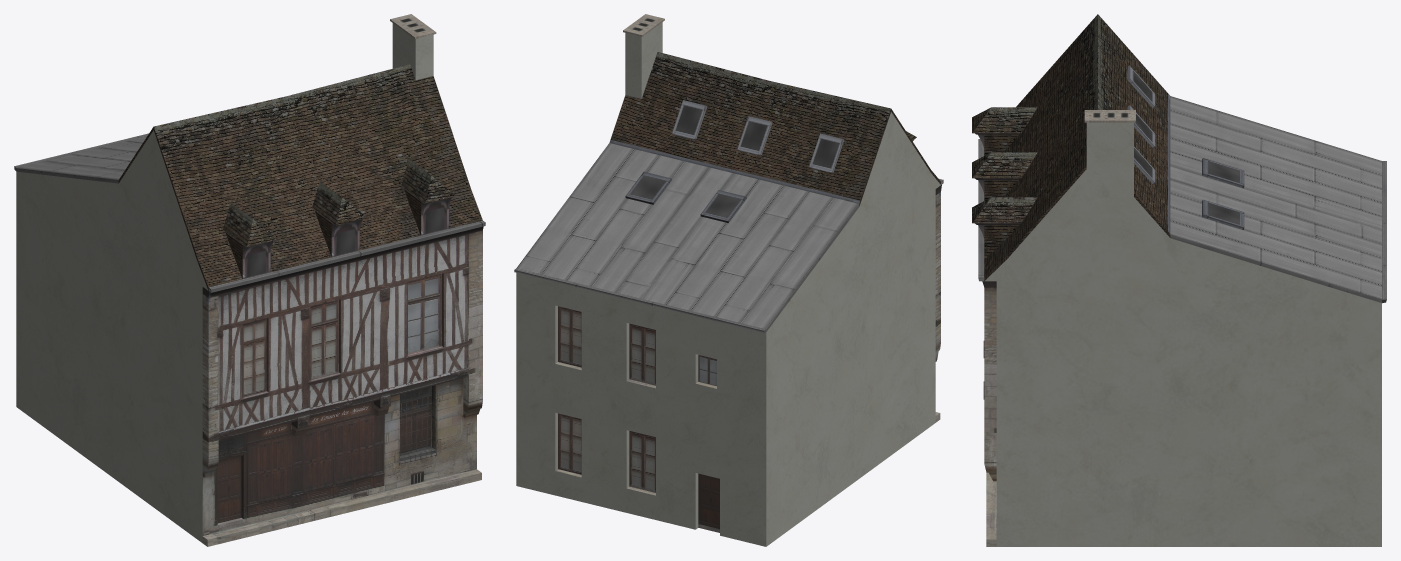
The model's file is old_city_house_1.obj.
3 views of the same model, side by side, from view 1: azimuth 30°, elevation 25°; view 2: azimuth 150°, elevation 25°; view 3: azimuth 270°, elevation 25° (orthographic). The views are drawn at different scales.
Parts seen in each view (by area): view 1: 2_2.0_2_2.0_0; view 2: 2_2.0_2_2.0_0; view 3: 2_2.0_2_2.0_0.
Boxes of the visible parts, x1,y1,x2,y2 form: 2_2.0_2_2.0_0: (14, 14, 485, 546); 2_2.0_2_2.0_0: (514, 14, 943, 546); 2_2.0_2_2.0_0: (972, 14, 1386, 546).
Size of the model in its own units: 8.05 by 11.5 by 10.12.
Materials: 1 (1 with a texture image).
